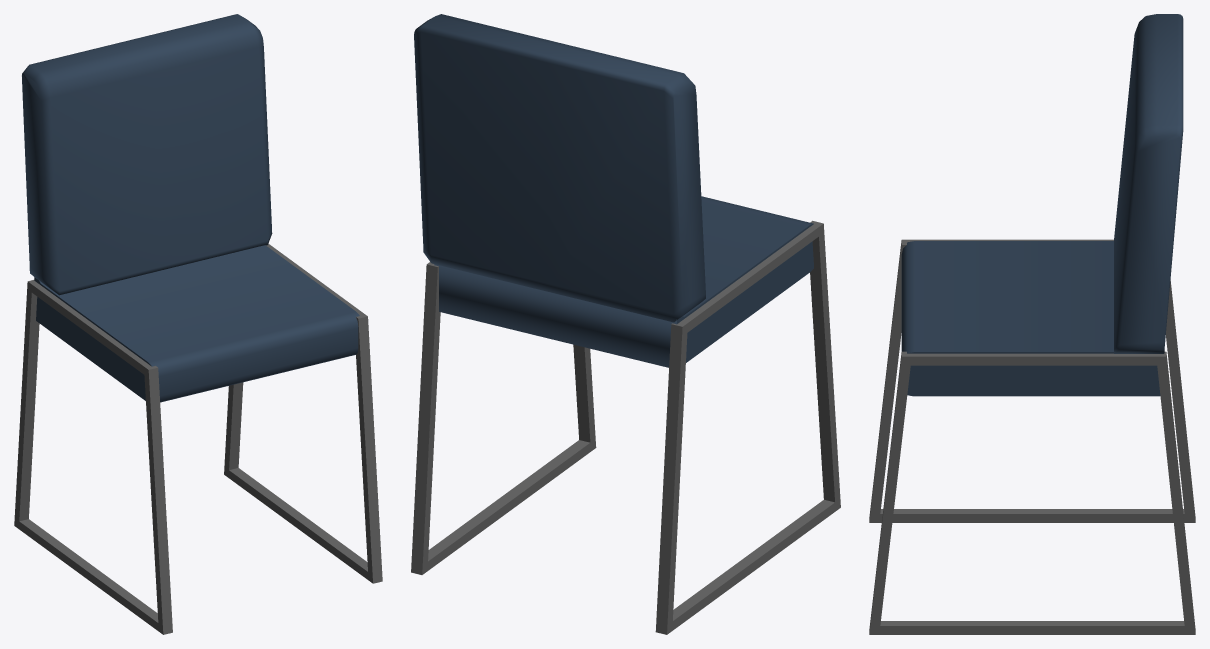
File: chair_prop.FBX
3 views of the same model, side by side, from view 1: azimuth 30°, elevation 25°; view 2: azimuth 150°, elevation 25°; view 3: azimuth 270°, elevation 25° (orthographic). The views are drawn at different scales.
Visible parts, largest first — view 1: chairs; view 2: chairs; view 3: chairs.
Boxes of the visible parts, box(x1,y1,x2,y2) form: chairs: box(14, 14, 382, 634); chairs: box(411, 14, 840, 634); chairs: box(869, 14, 1195, 634).
Size of the model in its own units: 40.61 by 80.73 by 46.97.
Materials: 1 (1 with a texture image).
